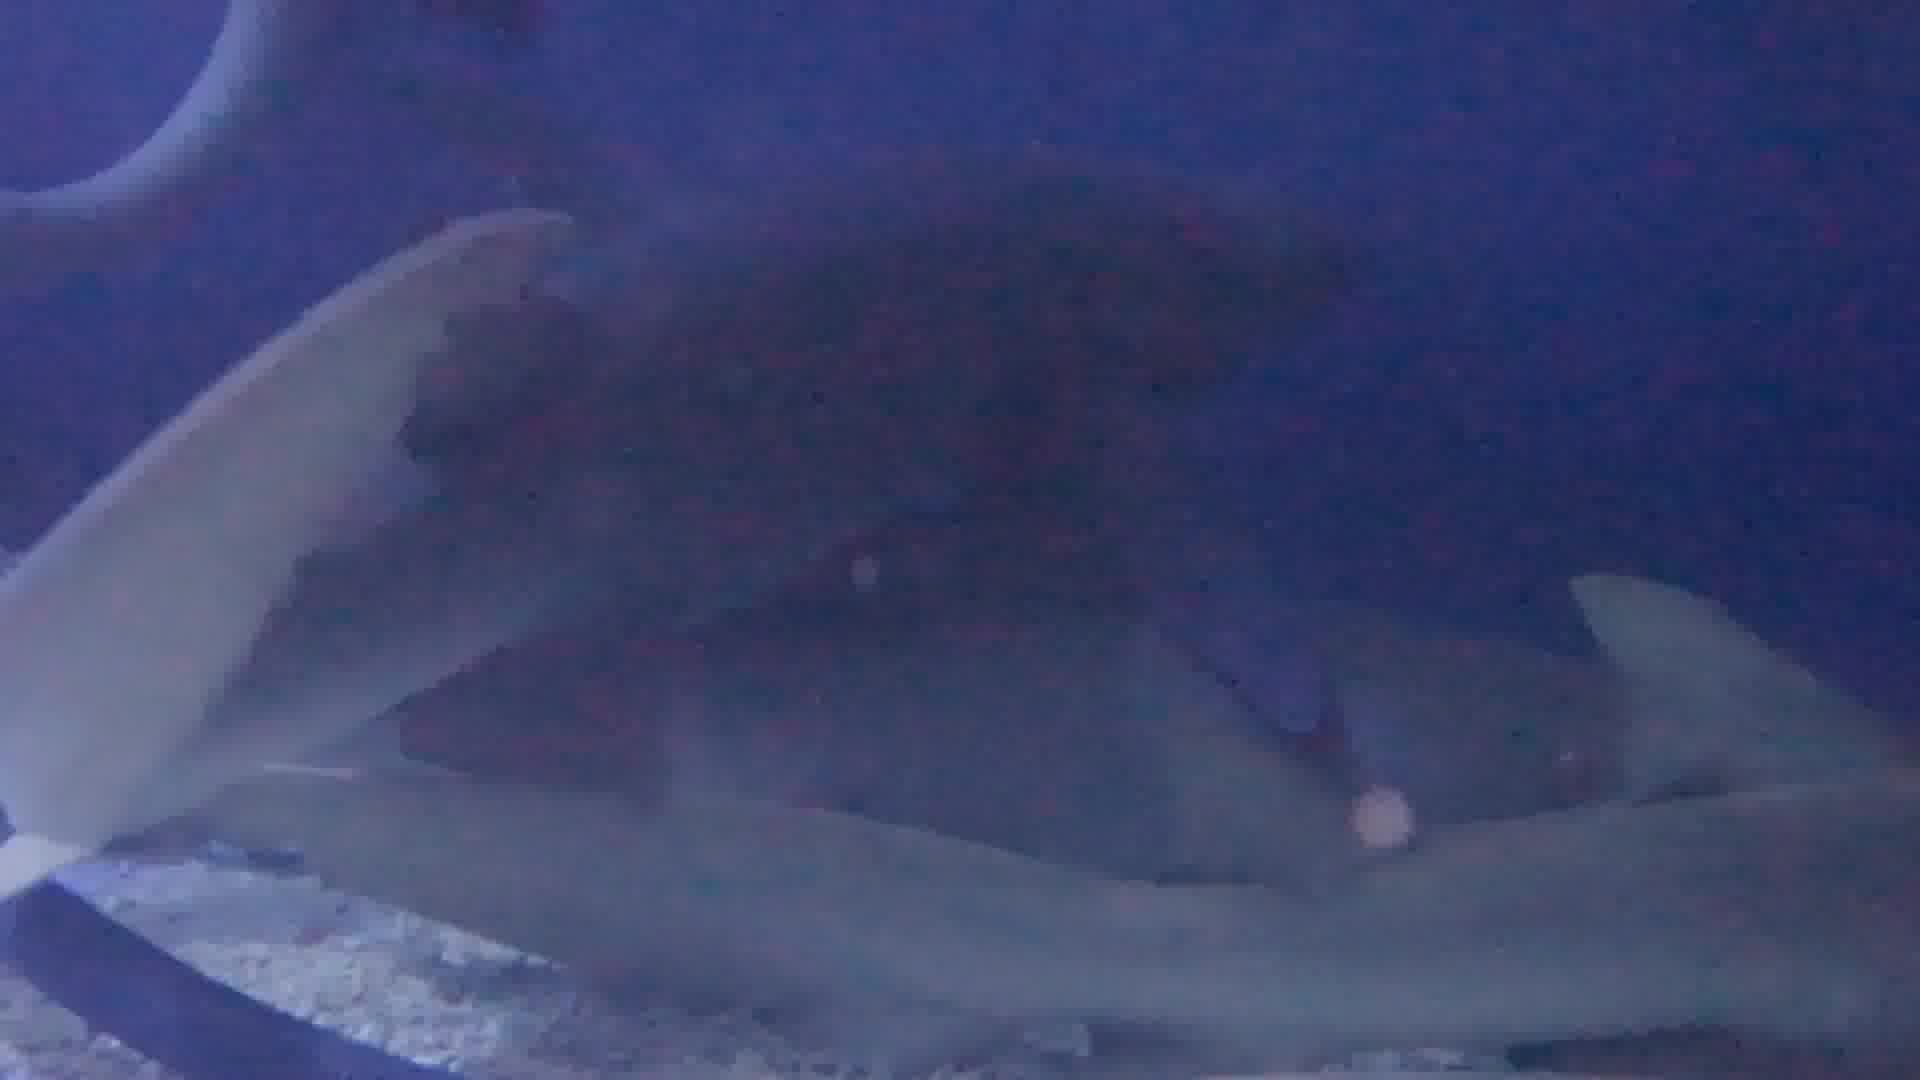Nebrius ferrugineus: (7, 26, 1470, 771)
